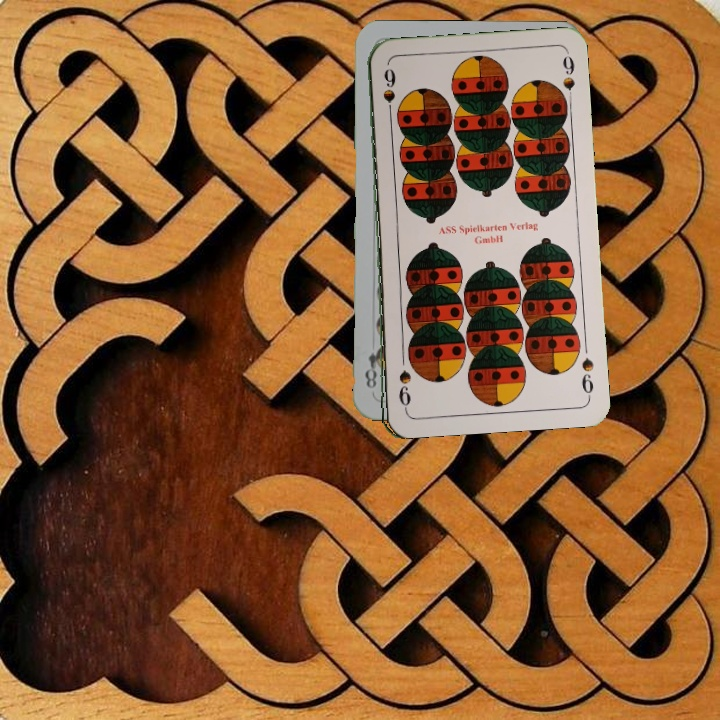S9: (379, 64, 396, 122), (577, 353, 596, 400)
